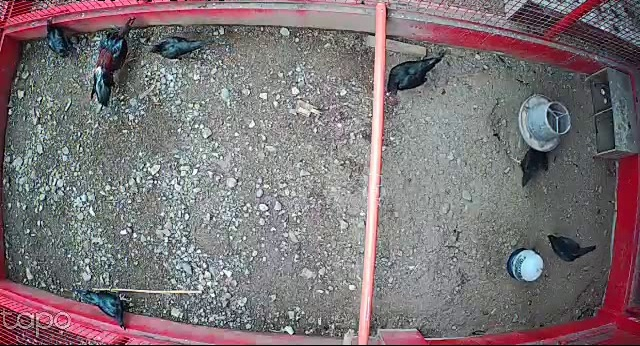Chicken: (74, 284, 137, 331), (385, 53, 446, 98), (511, 144, 554, 188), (546, 230, 597, 263), (148, 33, 206, 61), (45, 15, 79, 60)
Rooster: (90, 15, 141, 106)
